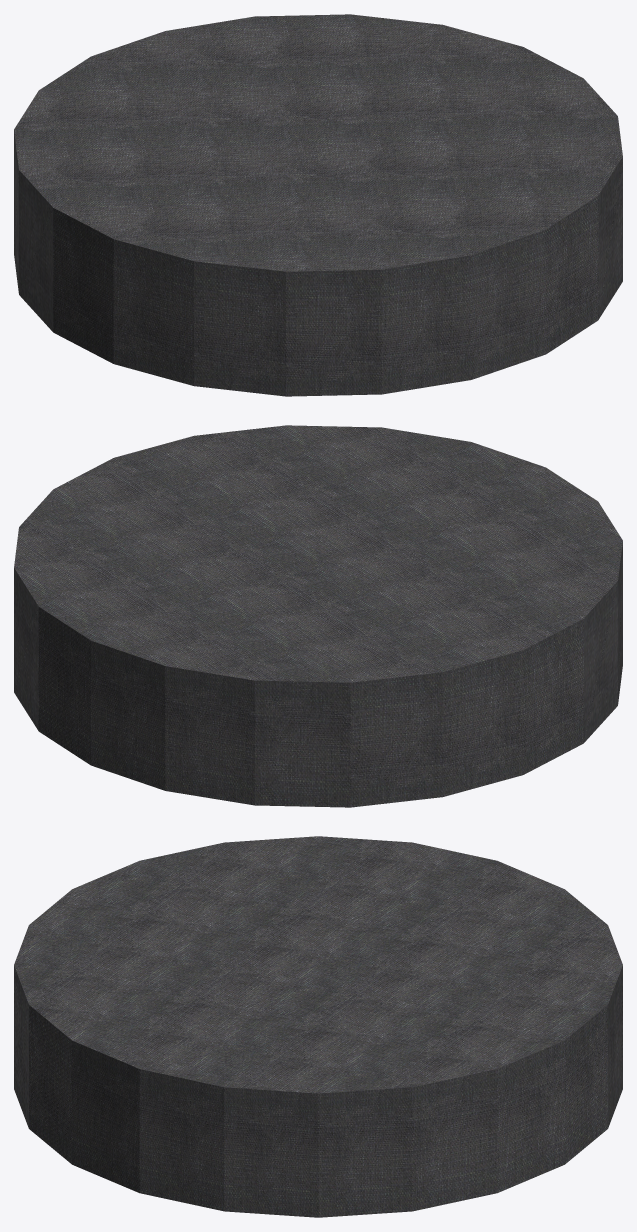
Rendered from table.dae.
3 renders of one model, top to bottom at view 1: azimuth 30°, elevation 25°; view 2: azimuth 150°, elevation 25°; view 3: azimuth 270°, elevation 25°, orthographic.
Visible parts, largest first — view 1: Cylinder; view 2: Cylinder; view 3: Cylinder.
Boxes of the visible parts, box(x1,y1,x2,y2) form: Cylinder: box(14, 14, 622, 396); Cylinder: box(14, 425, 622, 807); Cylinder: box(14, 836, 622, 1217).
Bounding box in the file's own units: 4 × 4 × 0.9.
1 material, 1 textured.
